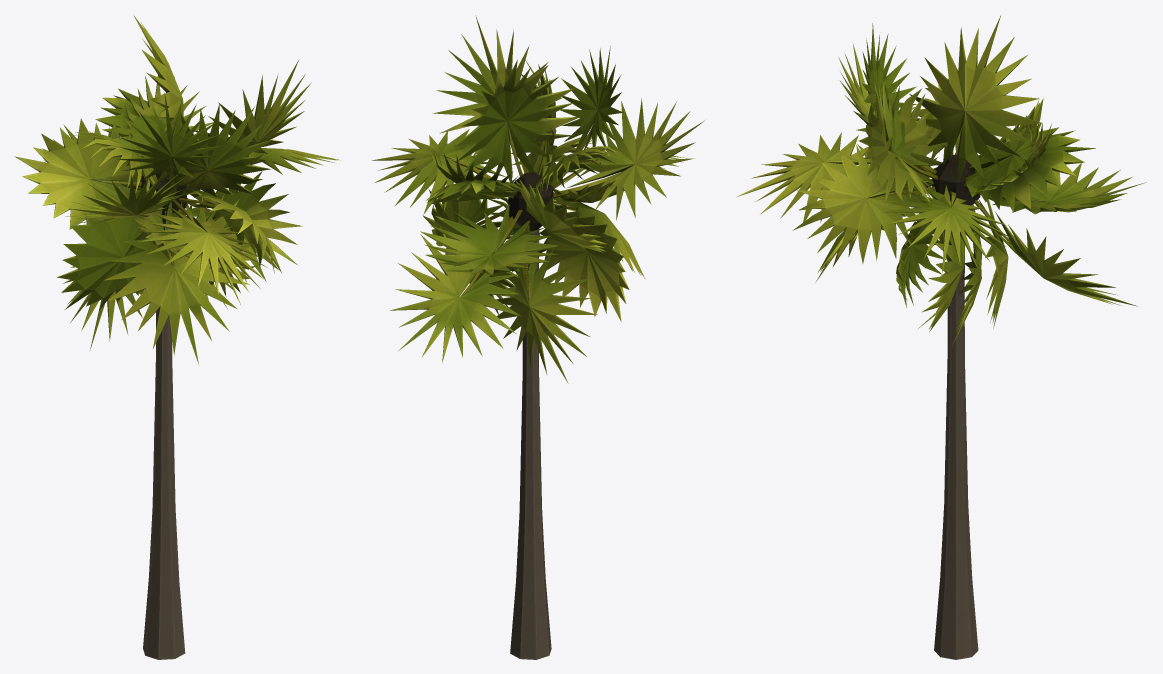
The model's file is palmyra-palm.glb.
3 renders of one model, left to right at view 1: azimuth 30°, elevation 25°; view 2: azimuth 150°, elevation 25°; view 3: azimuth 270°, elevation 25°, orthographic. The views are drawn at different scales.
Visible parts, largest first — view 1: PalmyraPalmTree_mesh; view 2: PalmyraPalmTree_mesh; view 3: PalmyraPalmTree_mesh.
Part boxes in pixels (box(x1,y1,x2,y2)): PalmyraPalmTree_mesh: box(14, 16, 340, 659); PalmyraPalmTree_mesh: box(371, 15, 704, 659); PalmyraPalmTree_mesh: box(737, 15, 1146, 659).
Size of the model in its own units: 15.95 by 31.38 by 18.6.
1 material, 1 textured.
